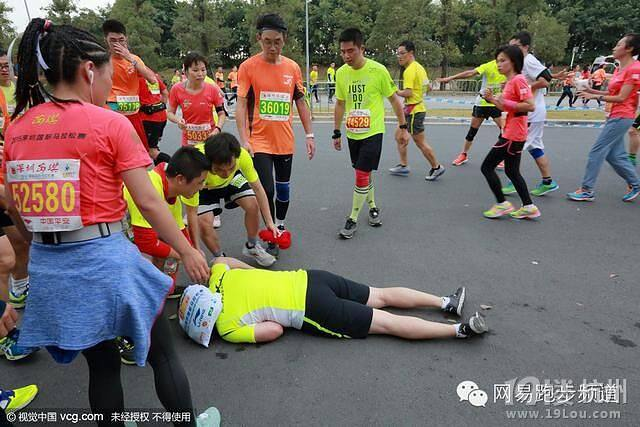10+: (2, 1, 637, 421)
down: (176, 258, 489, 365)
